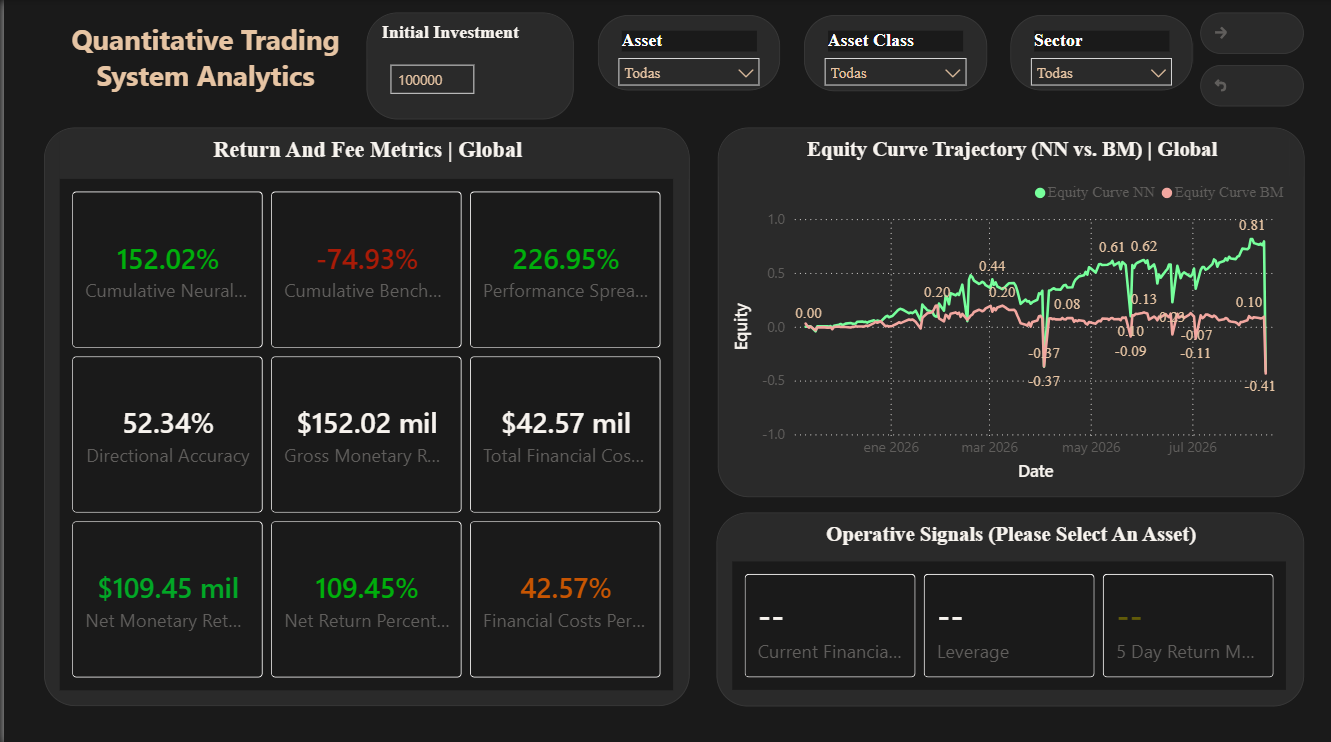

The dashboard page shown, as its layout file describes it:
{"tool":"powerbi","page":{"name":"Página 1","canvas":[1280,720],"ordinal":0},"visuals":[{"type":"textbox","box":[38.3,15,311.7,91.7],"z":0},{"type":"cardVisual","fields":{"Data":["Datos_Estrategia_Benchmark.Rendimientos_Estrategia_Acum","Datos_Estrategia_Benchmark.Rendimiento Acumulado De Benchmark","Datos_Estrategia_Benchmark.Diferencia De Rendimiento (Alpha)","Datos_Estrategia_Benchmark.Ratio De Precision Del Modelo","Capital A Invertir.Rendimiento Monetario Obtenido","Datos_Estrategia_Benchmark.Costo Financiero Total","Datos_Estrategia_Benchmark.Rendimiento Monetario Neto","Capital A Invertir.Porcentaje De Rendimiento Neto","Capital A Invertir.Porcentaje De Costo Financiero Sobre Total"]},"box":[38.3,123.3,623.3,558.3],"z":1},{"type":"slicer","title":"Initial Investment","fields":{"Values":["Capital A Invertir.Capital A Invertir"]},"box":[350,11.7,200,103.3],"z":3},{"type":"slicer","title":"Activo","fields":{"Values":["Dim_Activos.Ticker"]},"box":[573.3,15,176,73],"z":4},{"type":"lineChart","fields":{"Category":["Datos_Estrategia_Benchmark.Fecha"],"Y":["Capital A Invertir.Curva Capital NN","Capital A Invertir.Curva Capital BM"]},"box":[688.3,123.3,566.7,356.7],"z":5},{"type":"slicer","fields":{"Values":["Dim_Activos.Asset Class"]},"box":[771.7,15,176.7,73.3],"z":6},{"type":"slicer","fields":{"Values":["Dim_Activos.Financial Sector"]},"box":[971.7,15,176,73],"z":7},{"type":"cardVisual","fields":{"Data":["Datos_Estrategia_Benchmark.Posicion Actual A Tomar","Capital A Invertir.Recomendacion Accion","Capital A Invertir.Rendimiento A 5 Dias Atras"]},"box":[688,495,567,187],"z":8},{"type":"actionButton","box":[1155,11.7,100,40],"z":9},{"type":"actionButton","box":[1155,63.3,100,40],"z":10}]}

Visuals, with their boxes in screenshot pixels (x1, y1, x2, y2), scaled from the page's 1280x720 canvas onto the 1331x742 screenshot:
textbox: Rect(40, 15, 364, 110)
cardVisual - Datos_Estrategia_Benchmark.Rendimientos_Estrategia_Acum x Datos_Estrategia_Benchmark.Rendimiento Acumulado De Benchmark: Rect(40, 127, 688, 702)
"Initial Investment" slicer: Rect(364, 12, 572, 119)
"Activo" slicer: Rect(596, 15, 779, 91)
lineChart - Datos_Estrategia_Benchmark.Fecha x Capital A Invertir.Curva Capital NN: Rect(716, 127, 1305, 495)
slicer - Dim_Activos.Asset Class: Rect(802, 15, 986, 91)
slicer - Dim_Activos.Financial Sector: Rect(1010, 15, 1193, 91)
cardVisual - Datos_Estrategia_Benchmark.Posicion Actual A Tomar x Capital A Invertir.Recomendacion Accion: Rect(715, 510, 1305, 703)
actionButton: Rect(1201, 12, 1305, 53)
actionButton: Rect(1201, 65, 1305, 106)
